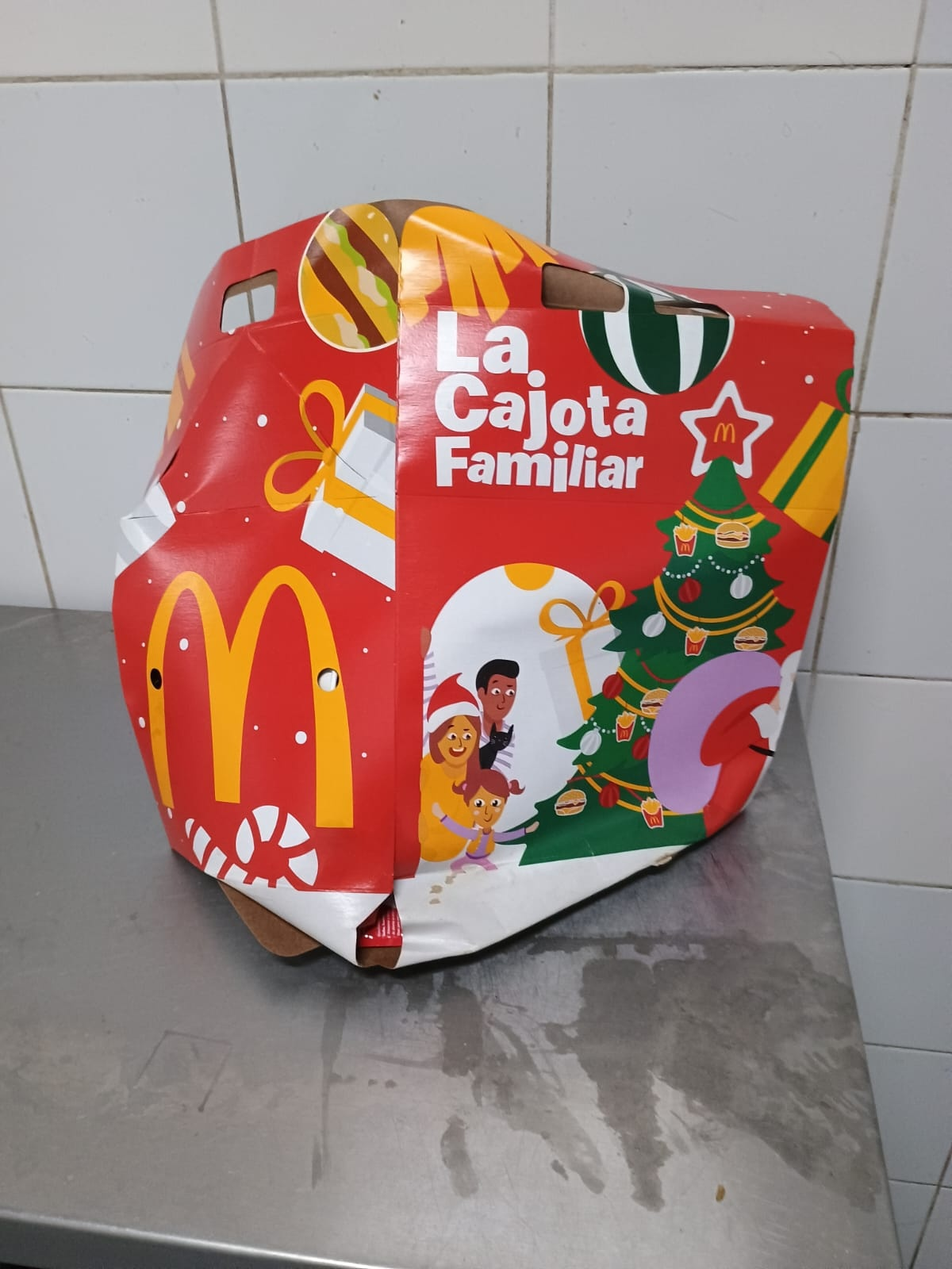Carton: (112, 198, 855, 981)
